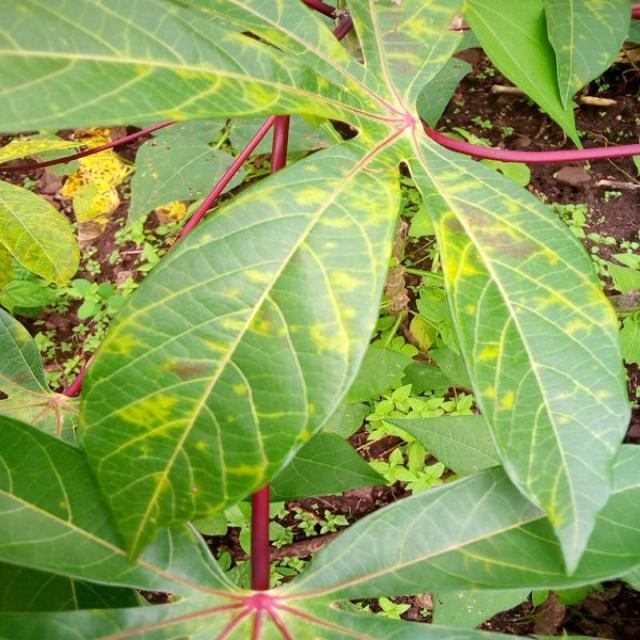cassava leaf: (0, 1, 638, 633), (74, 133, 403, 562), (401, 122, 632, 577)
